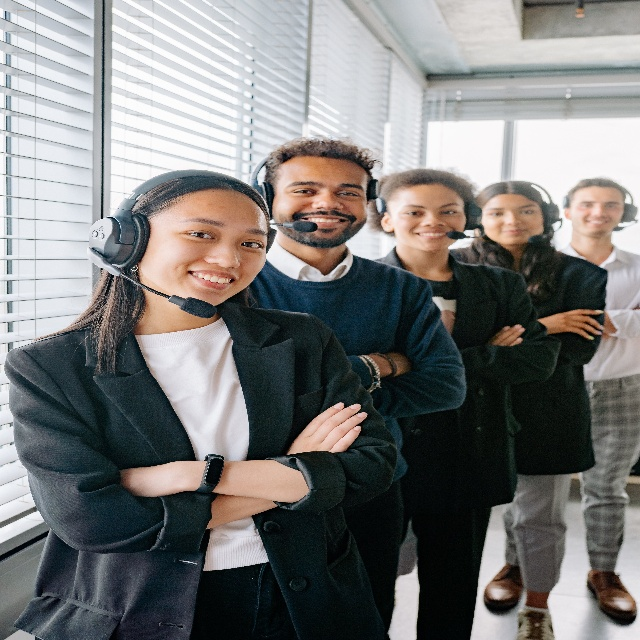Sin_guantes: (288, 402, 367, 452), (123, 464, 197, 499), (541, 309, 607, 335), (490, 324, 524, 348)
